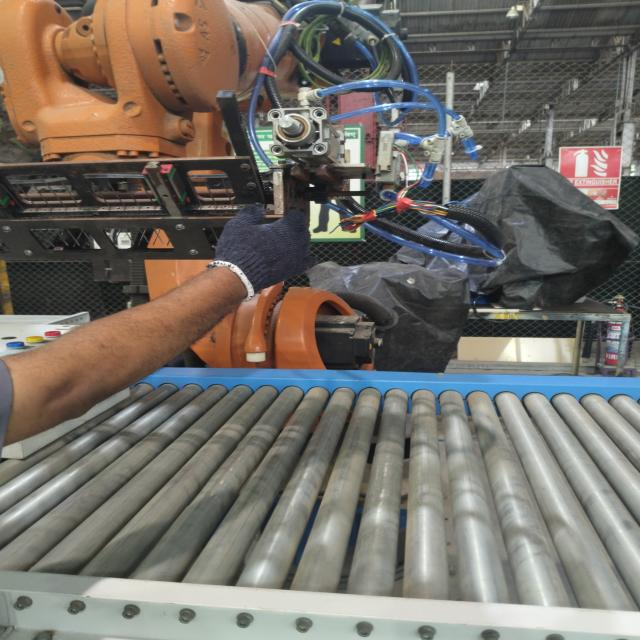Gloves-Detection: (218, 200, 308, 292)
